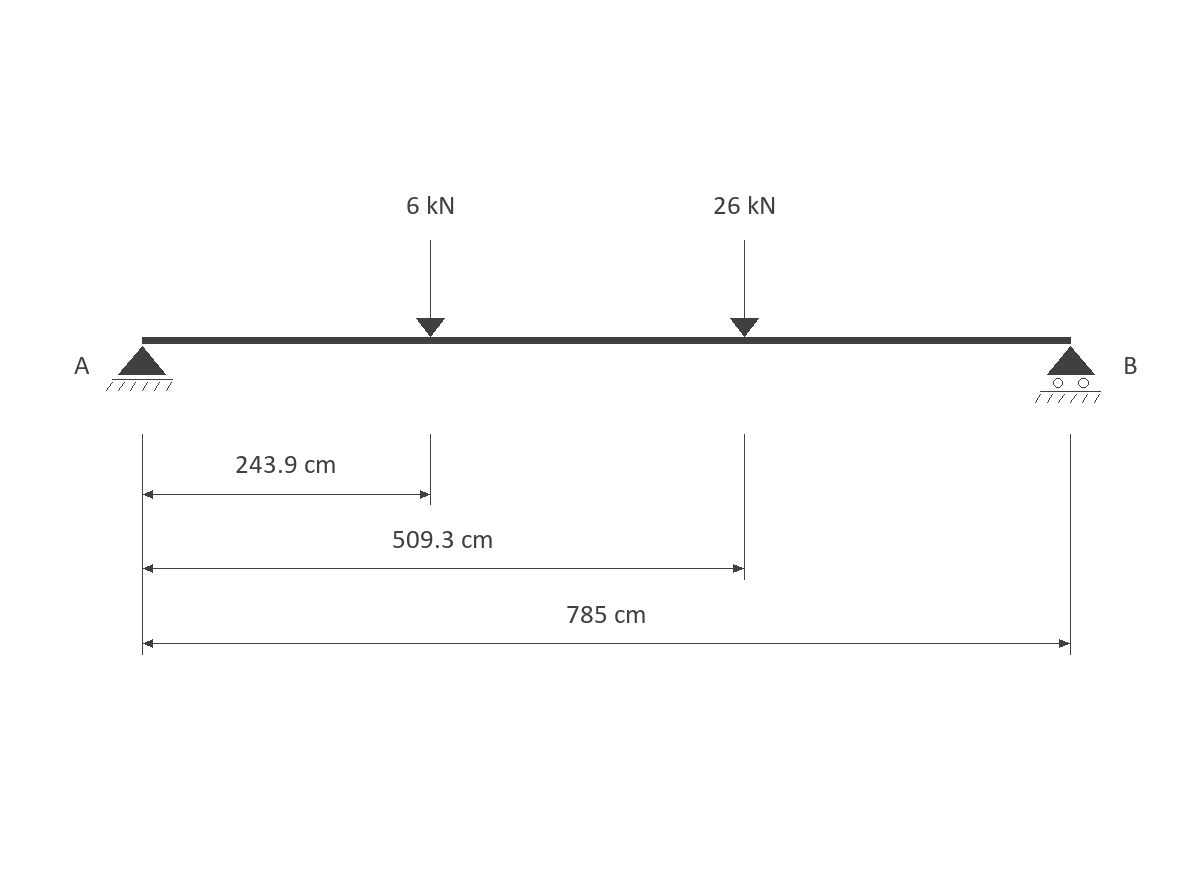pin_support: (106, 346, 173, 391)
point_load: (416, 240, 445, 337), (730, 240, 759, 337)
roller_support: (1035, 346, 1101, 403)
